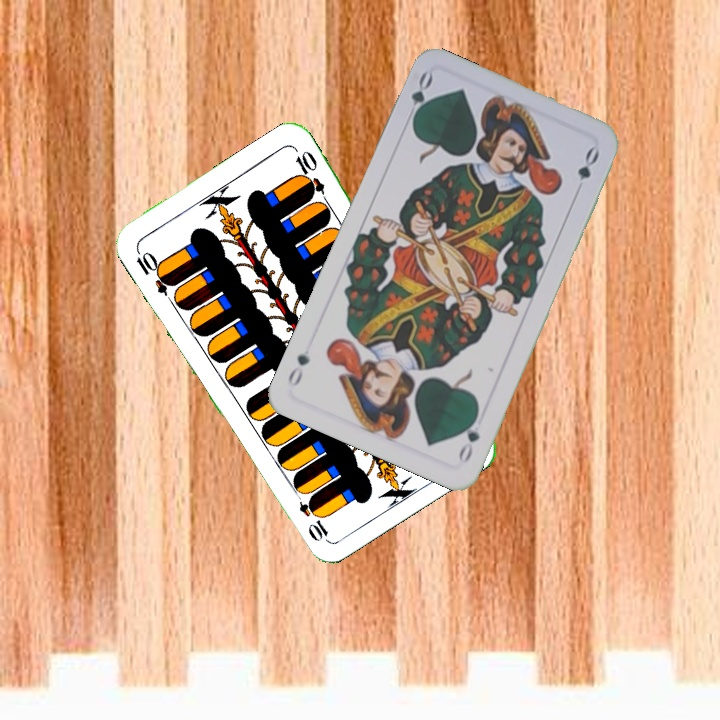E10: (131, 244, 177, 297)
GO: (401, 68, 436, 127), (454, 408, 482, 465)
